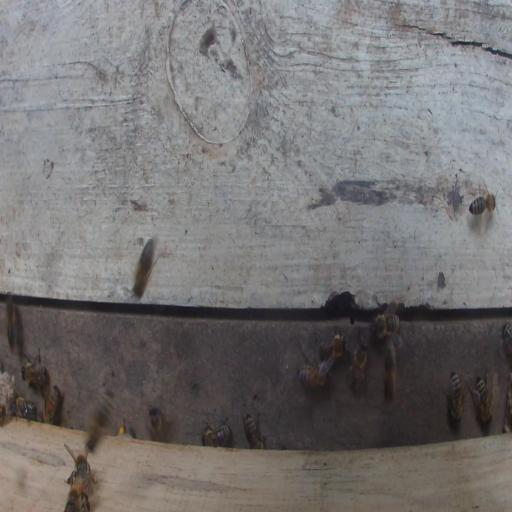nonpollenbee: (85, 390, 119, 451), (134, 237, 157, 298), (297, 363, 329, 396), (63, 480, 93, 512), (65, 454, 95, 484), (317, 334, 348, 362), (350, 339, 366, 389), (371, 313, 400, 339), (450, 372, 465, 422), (476, 375, 491, 425), (202, 425, 232, 448), (43, 384, 59, 424), (384, 341, 395, 399), (10, 396, 36, 420), (468, 193, 496, 214), (21, 363, 47, 385), (6, 291, 16, 348), (149, 407, 165, 442), (246, 413, 260, 448), (503, 324, 512, 357)
